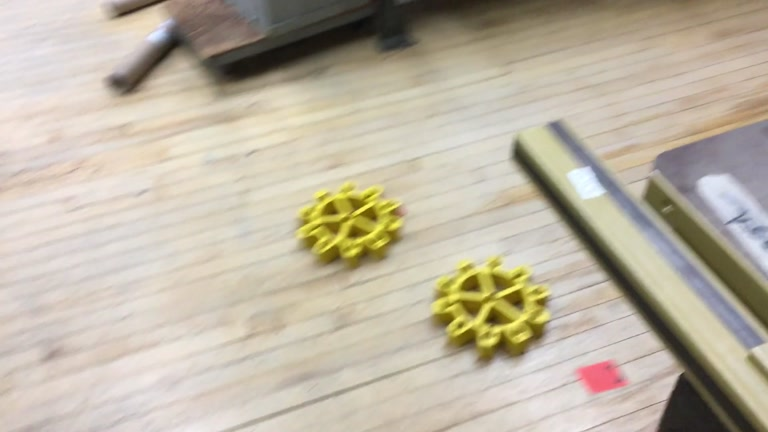gear: (427, 252, 551, 364), (297, 182, 404, 270)
